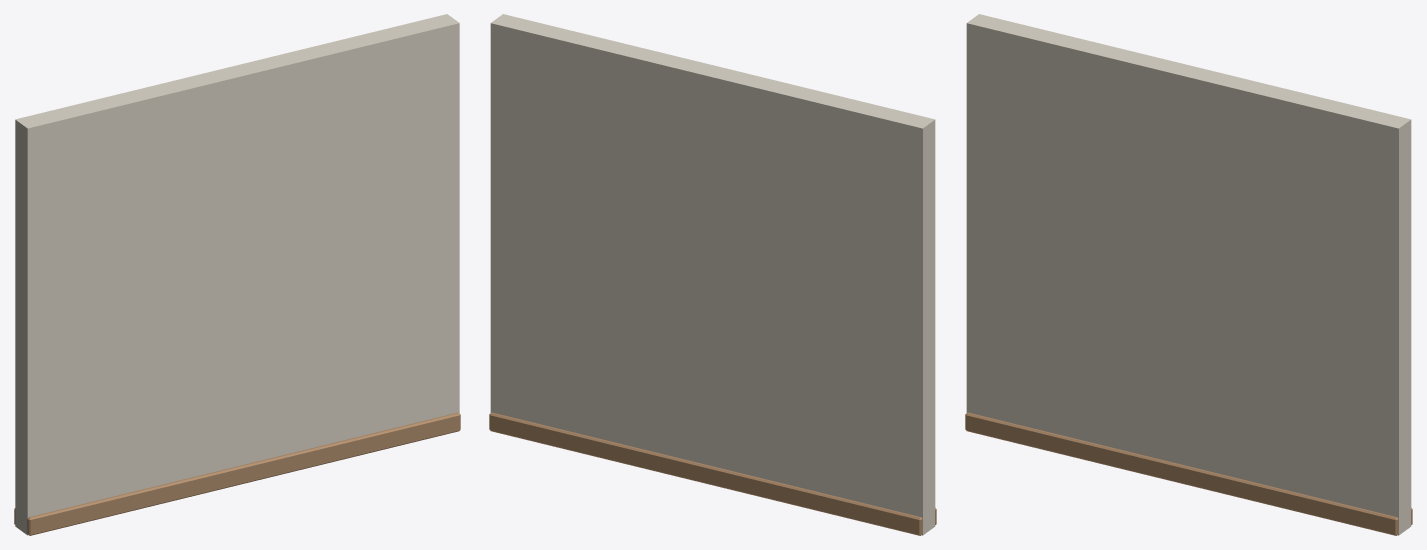
Rendered from cozy-home-interiors-wall-straight-3m-761deb7a.glb.
3 renders of one model, left to right at view 1: azimuth 30°, elevation 25°; view 2: azimuth 150°, elevation 25°; view 3: azimuth 330°, elevation 25°, orthographic.
Parts seen in each view (by area): view 1: wall-straight-3m; view 2: wall-straight-3m; view 3: wall-straight-3m.
Boxes of the visible parts, bbox=[...] form: wall-straight-3m: bbox=[14, 14, 460, 535]; wall-straight-3m: bbox=[489, 14, 936, 535]; wall-straight-3m: bbox=[965, 14, 1412, 535].
Size of the model in its own units: 3 by 2.7 by 0.195.
